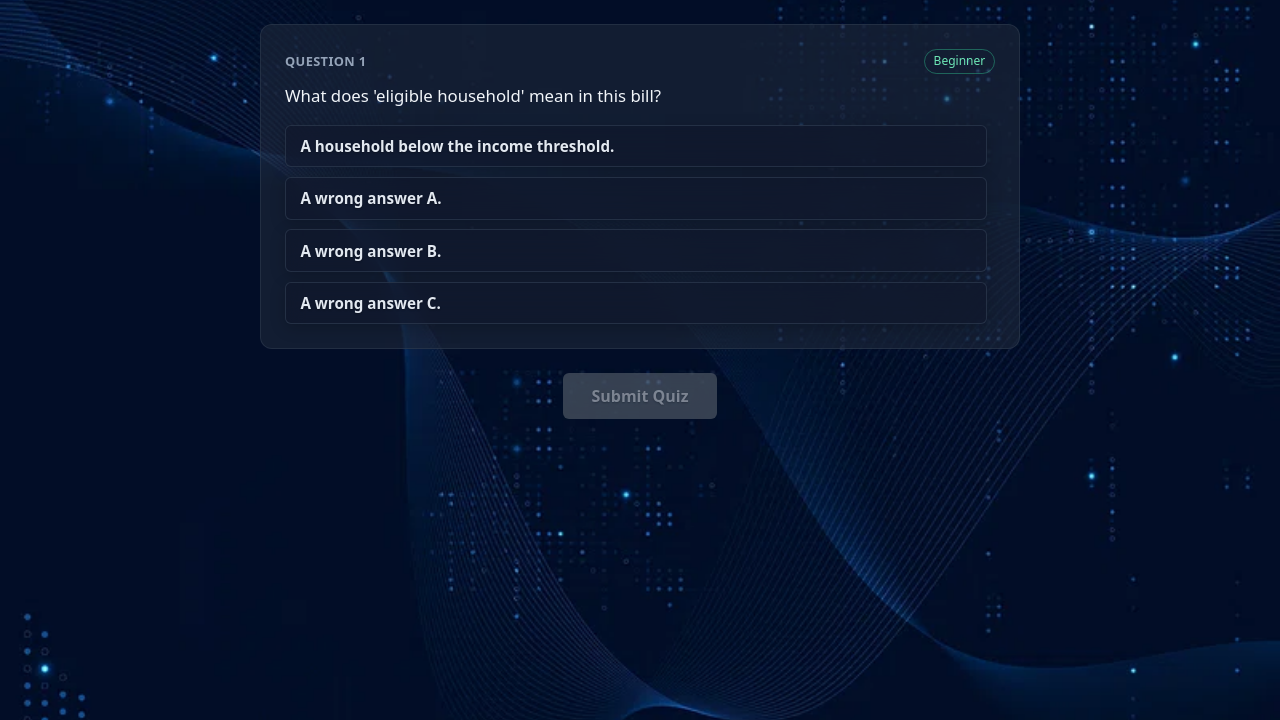
Test: LessonQuiz › shows immediate explanations for each question after submission
This screenshot has width=1280, height=720.
expect the text "What does 'eligible household' mean in this bill?" is shown: met, box [285,84,661,107]
Click the button with test id "quiz-choice-q1-1" at x=371, y=198, box [285,177,987,220]
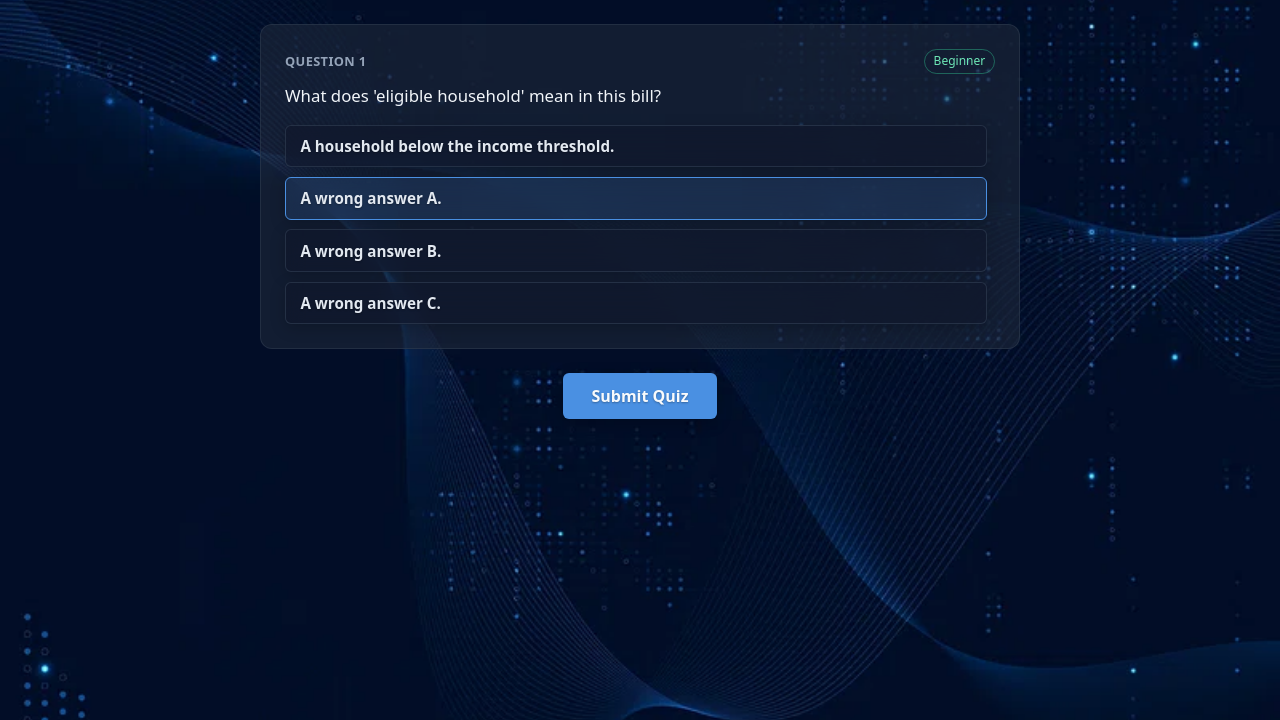
Click the button with test id "submit-quiz" at x=640, y=396, box [564,374,717,420]
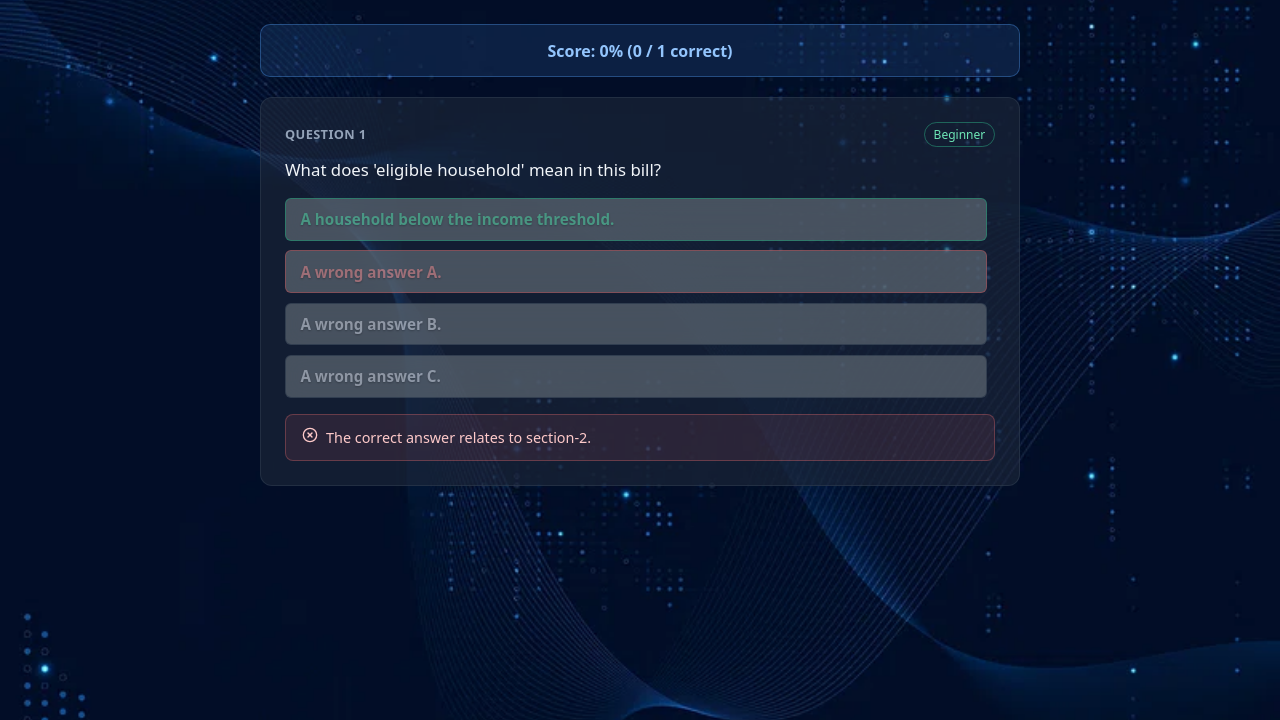
expect the element with test id "quiz-explanation-q1" reads "The correct answer relates to section-2.": met, box [326,428,591,447]
